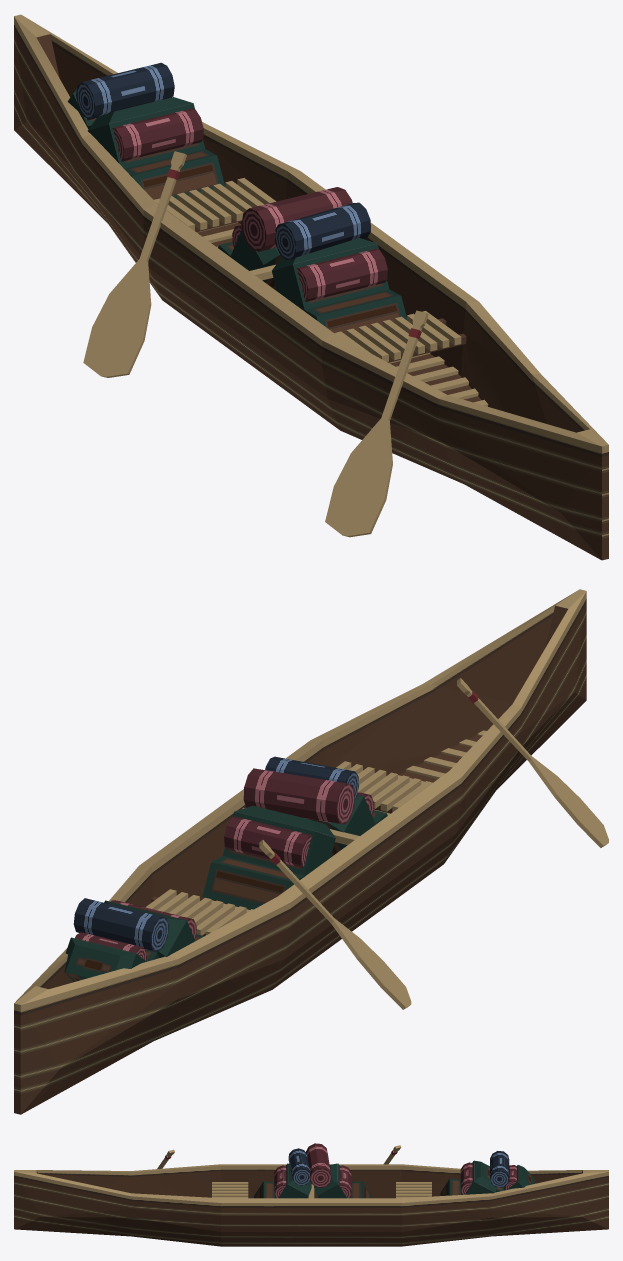
The picture shows the model from 3 angles, top to bottom: view 1: azimuth 30°, elevation 25°; view 2: azimuth 150°, elevation 25°; view 3: azimuth 270°, elevation 25°; orthographic projection. The views are drawn at different scales.
Visible parts, largest first — view 1: Canoe_5, Paddle_10, Paddle_9; view 2: Canoe_5, Paddle_9, Paddle_10; view 3: Canoe_5.
Boxes of the visible parts, x1,y1,x2,y2 form: Canoe_5: (14,14,608,560); Paddle_10: (325,310,428,537); Paddle_9: (83,151,186,377); Canoe_5: (14,589,586,1114); Paddle_9: (259,840,411,1009); Paddle_10: (457,678,608,847); Canoe_5: (14,1143,608,1246).
Bounding box in the file's own units: 205 × 136 × 842.
Materials: 1 (1 with a texture image).
